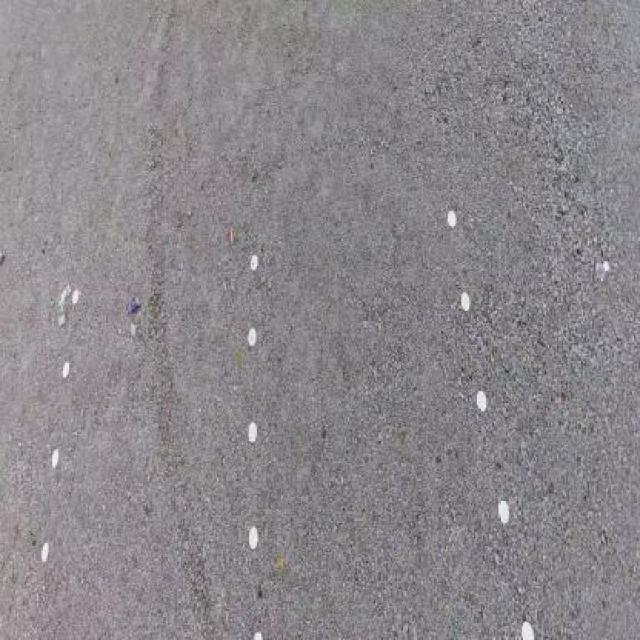Garbage: (57, 283, 71, 314), (126, 294, 141, 315), (596, 261, 609, 281), (58, 313, 65, 327), (229, 228, 234, 246), (0, 247, 5, 265), (130, 322, 136, 337)
